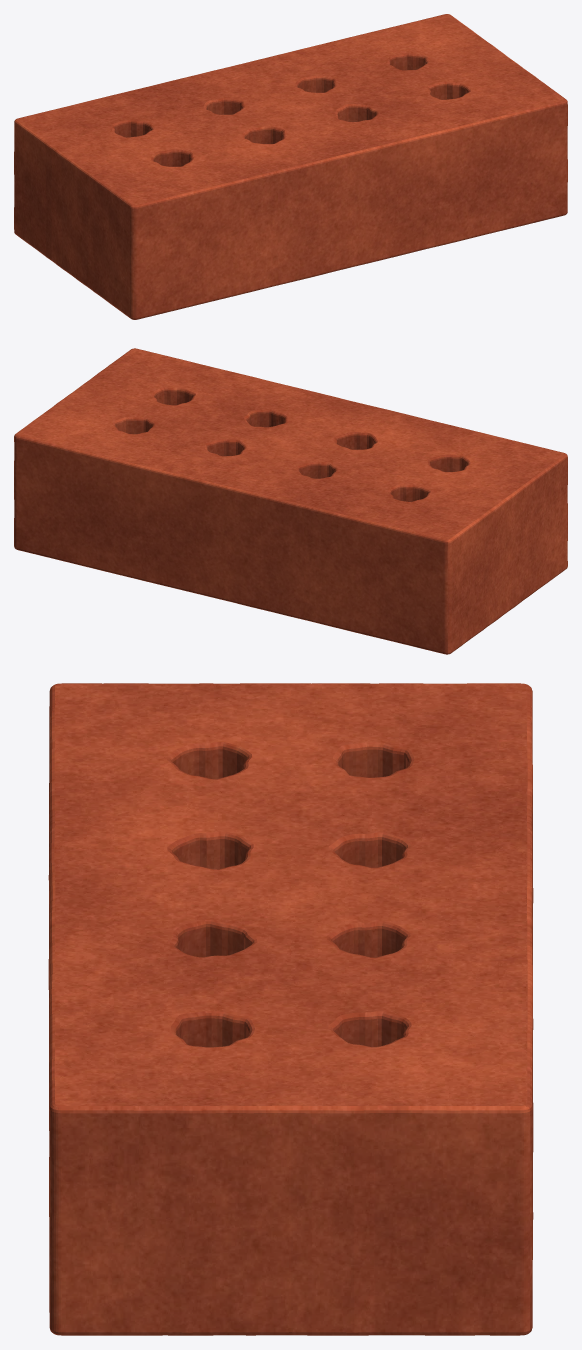
The model's file is red-clay-8-hole.glb.
3 views of the same model, one above another, from view 1: azimuth 30°, elevation 25°; view 2: azimuth 150°, elevation 25°; view 3: azimuth 270°, elevation 25° (orthographic). The views are drawn at different scales.
Visible parts, largest first — view 1: red-clay-8-hole; view 2: red-clay-8-hole; view 3: red-clay-8-hole.
Boxes of the visible parts, bbox=[...] form: red-clay-8-hole: bbox=[14, 14, 567, 319]; red-clay-8-hole: bbox=[14, 348, 567, 654]; red-clay-8-hole: bbox=[48, 683, 533, 1335].
Bounding box in the file's own units: 0.24 × 0.06 × 0.115.
Materials: 1 (1 with a texture image).
